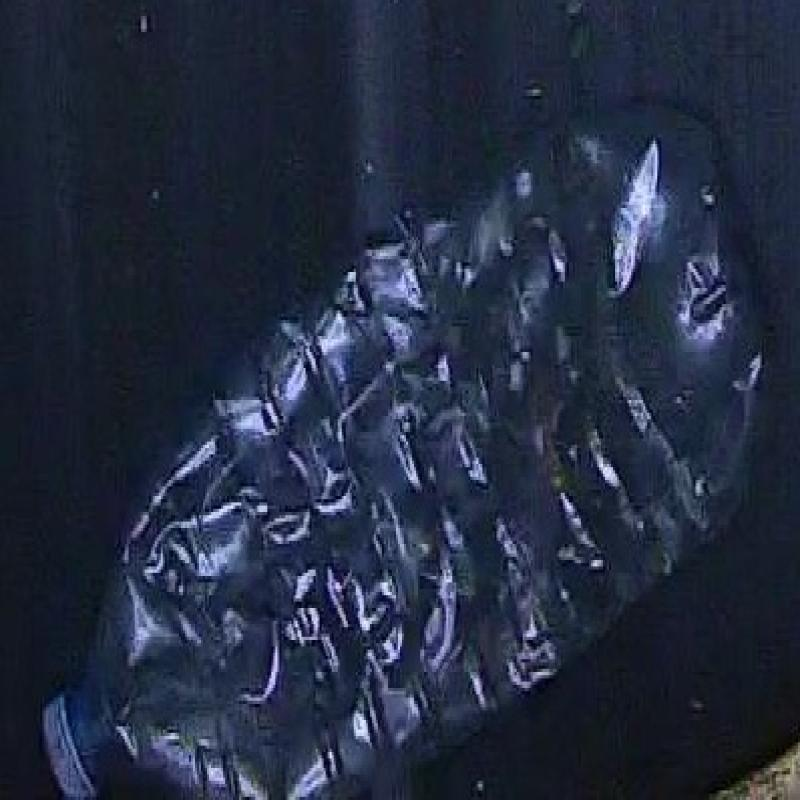botella: (30, 112, 774, 800)
